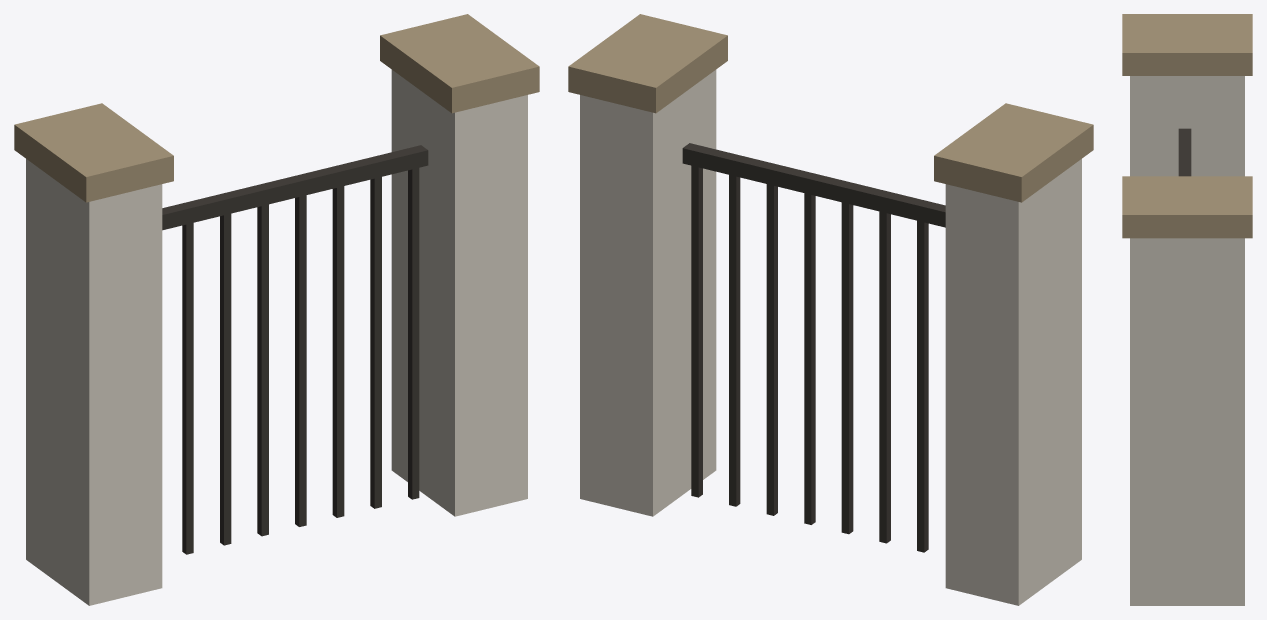
Rendered from bahce-kapisi-demir.glb.
3 renders of one model, left to right at view 1: azimuth 30°, elevation 25°; view 2: azimuth 150°, elevation 25°; view 3: azimuth 270°, elevation 25°, orthographic. The views are drawn at different scales.
Visible parts, largest first — view 1: badana, demir, tas_koyu; view 2: badana, demir, tas_koyu; view 3: badana, tas_koyu, demir.
Boxes of the visible parts, box(x1,y1,x2,y2) form: badana: box(26, 70, 527, 605); demir: box(162, 145, 428, 554); tas_koyu: box(14, 14, 539, 202); badana: box(580, 70, 1081, 605); demir: box(682, 143, 945, 552); tas_koyu: box(568, 14, 1093, 202); badana: box(1130, 76, 1244, 605); tas_koyu: box(1122, 14, 1252, 238); demir: box(1178, 128, 1191, 176).
Size of the model in its own units: 1.86 by 1.7 by 0.51.
